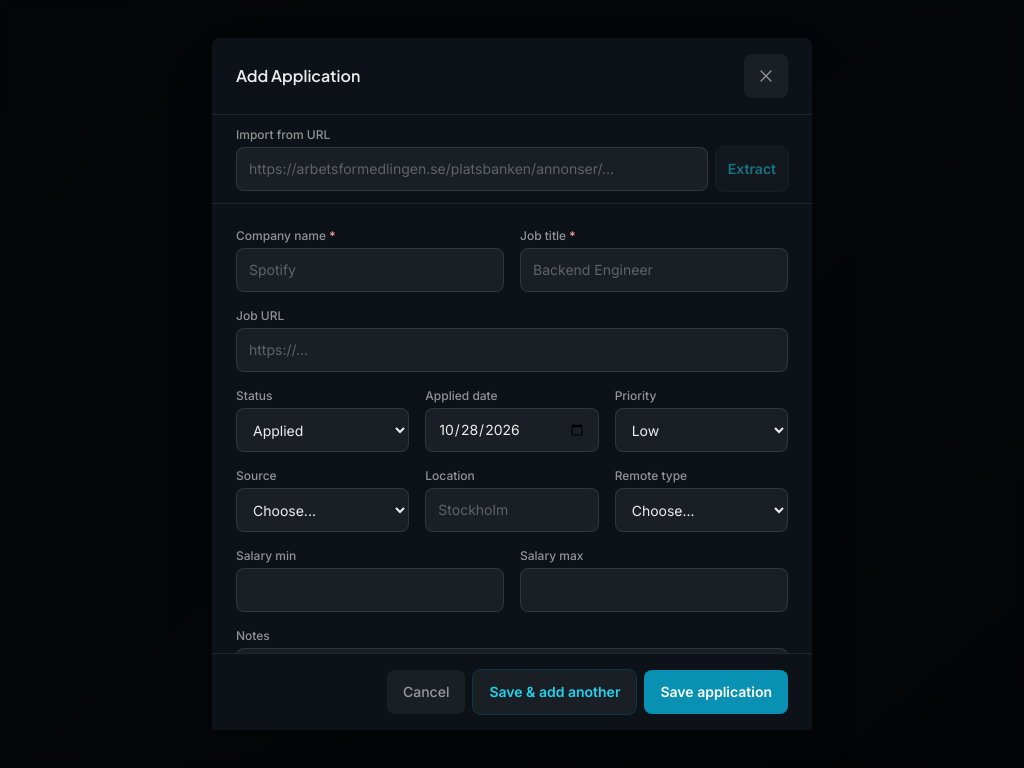
it: AddApplicationModal — import from URL › derives linkedin source from the URL hostname
The image size is (1024, 768).
In the field labelled "Import from URL": point(472, 169) x1=236 y1=147 x2=708 y2=191, type "https://www.linkedin.com/jobs/view/123"
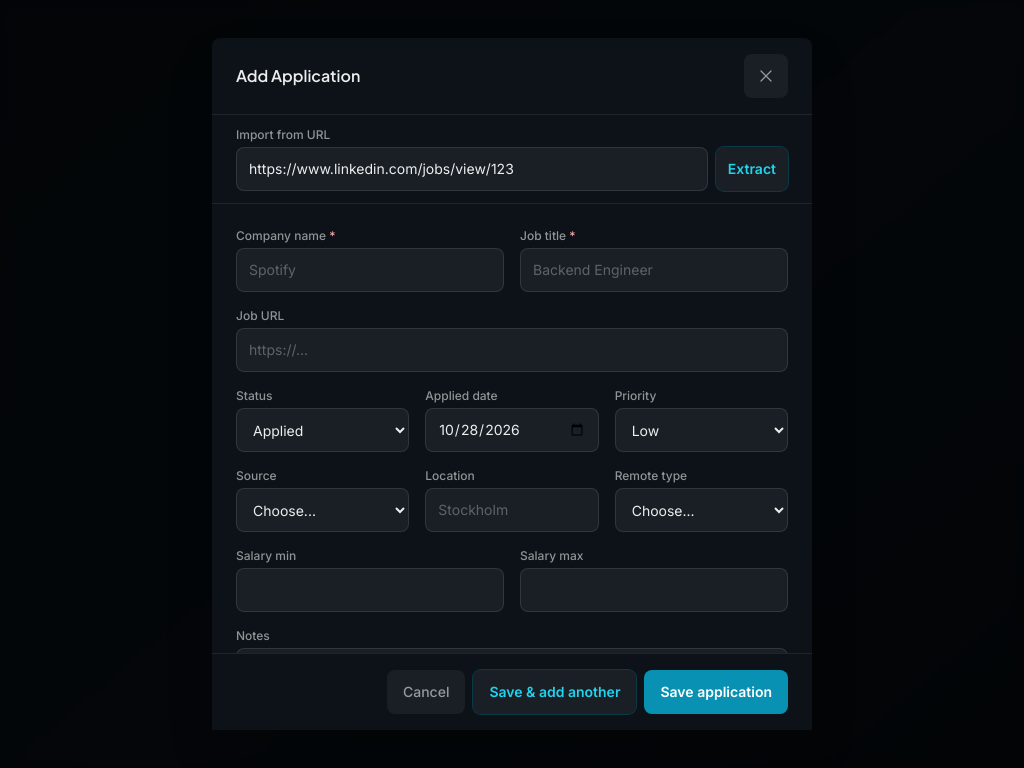
Click the button "Extract": point(752, 169) x1=716 y1=147 x2=788 y2=191
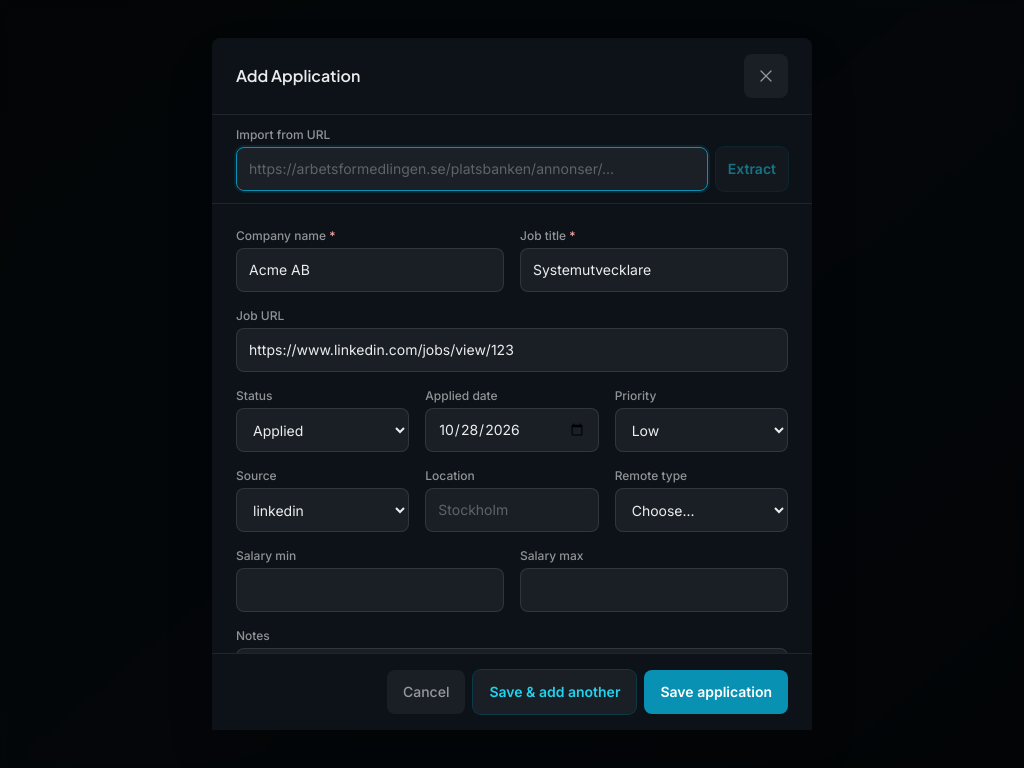
Now the dropdown labelled "Source" shows "linkedin", box x1=236 y1=488 x2=409 y2=532
